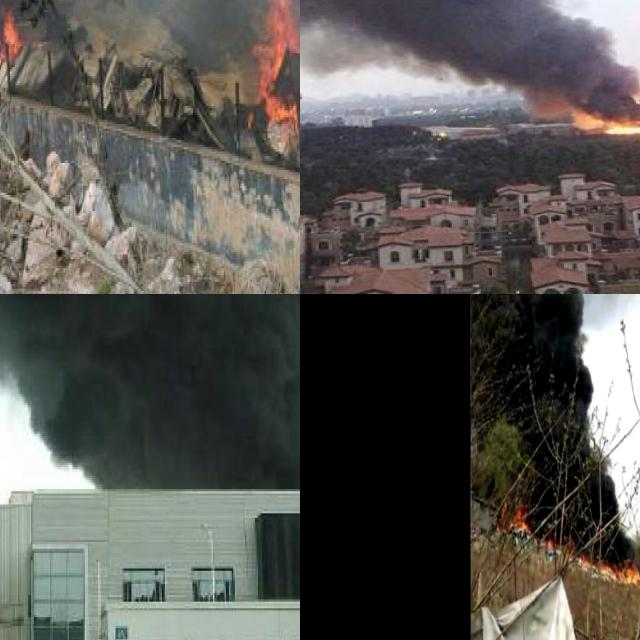fire: (501, 499, 640, 586), (252, 0, 300, 181), (573, 105, 640, 135), (0, 9, 21, 55), (512, 507, 530, 532)
smoke: (0, 294, 300, 491), (471, 294, 637, 568), (300, 0, 640, 111)
